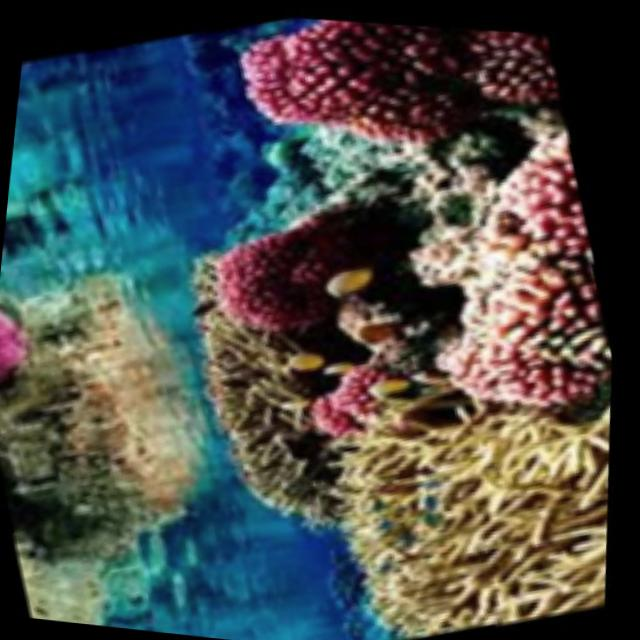Dead Coral: (164, 298, 363, 530)
